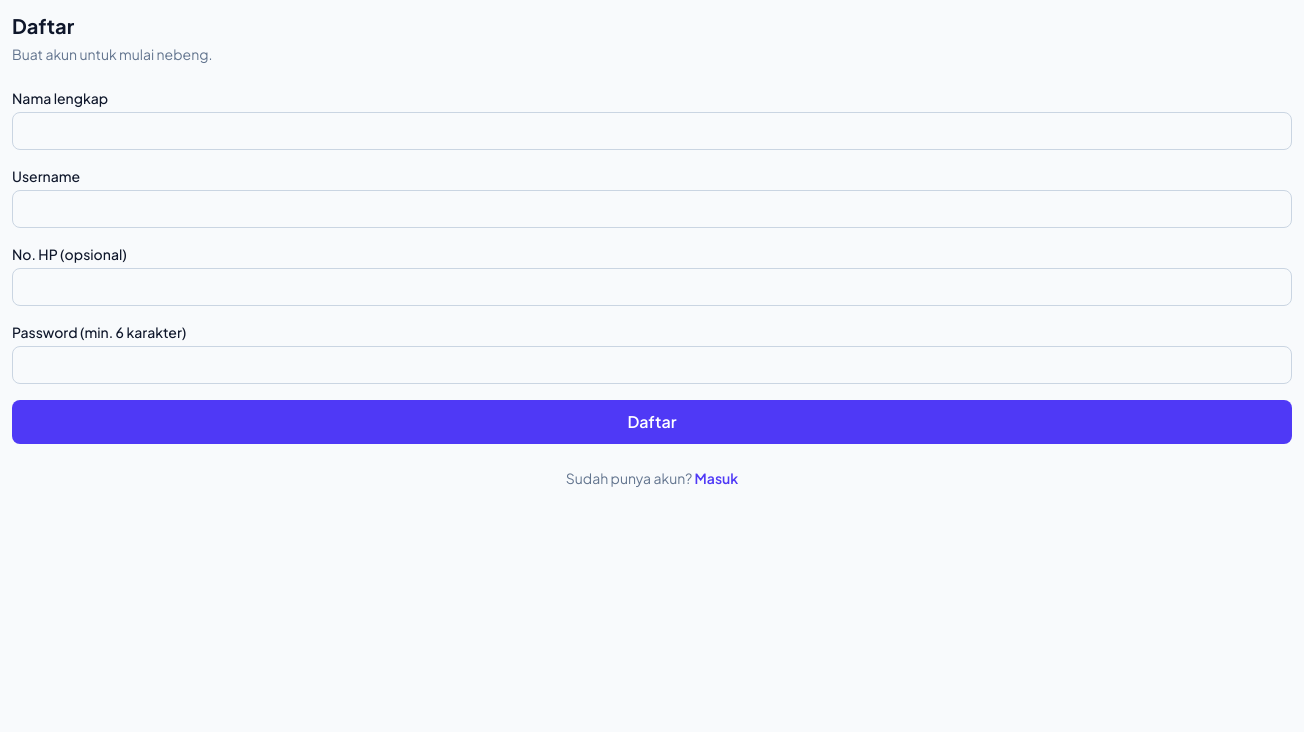
Test: RegisterPage › daftar gagal menampilkan pesan
Type "Leona" into the field with id "name" at (652, 131), box [12,112,1292,150]
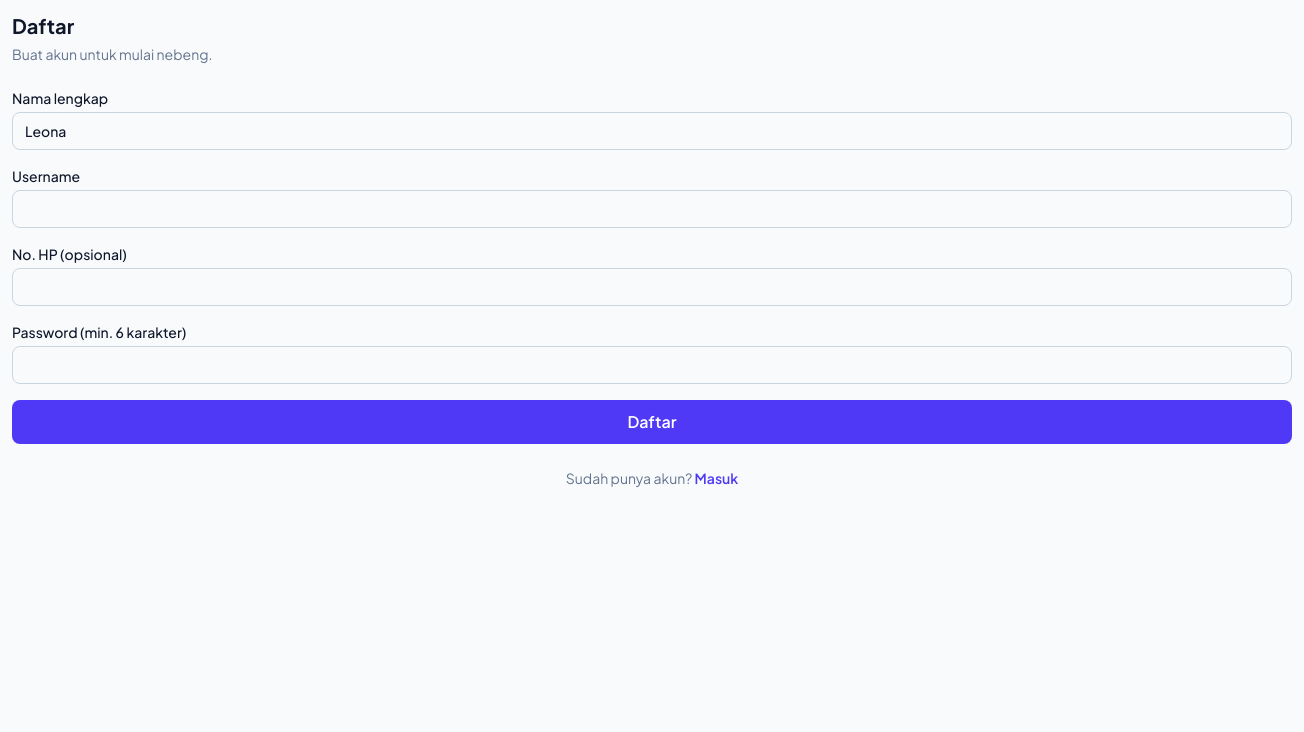
Type "leona" into the field with id "username" at (652, 209), box [12,190,1292,228]
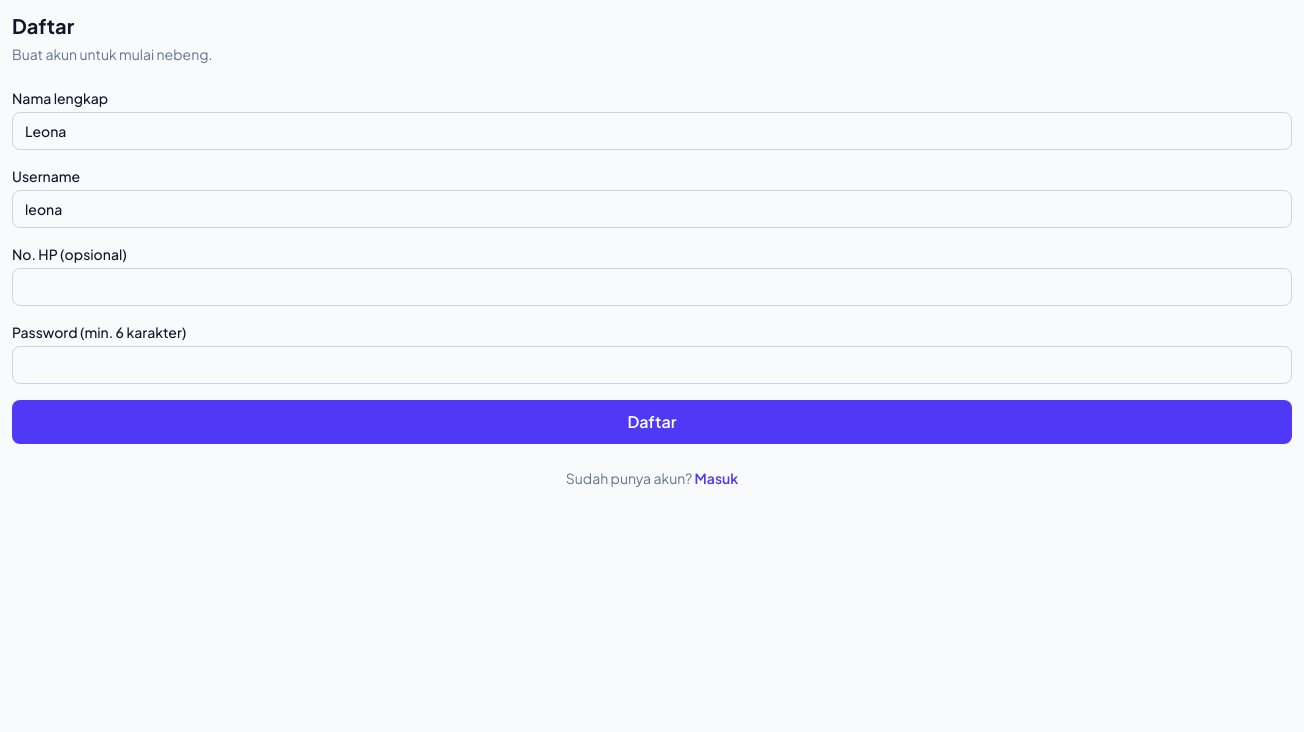
Type "0812" into the field labelled "No. HP (opsional)" at (652, 287), box [12,268,1292,306]
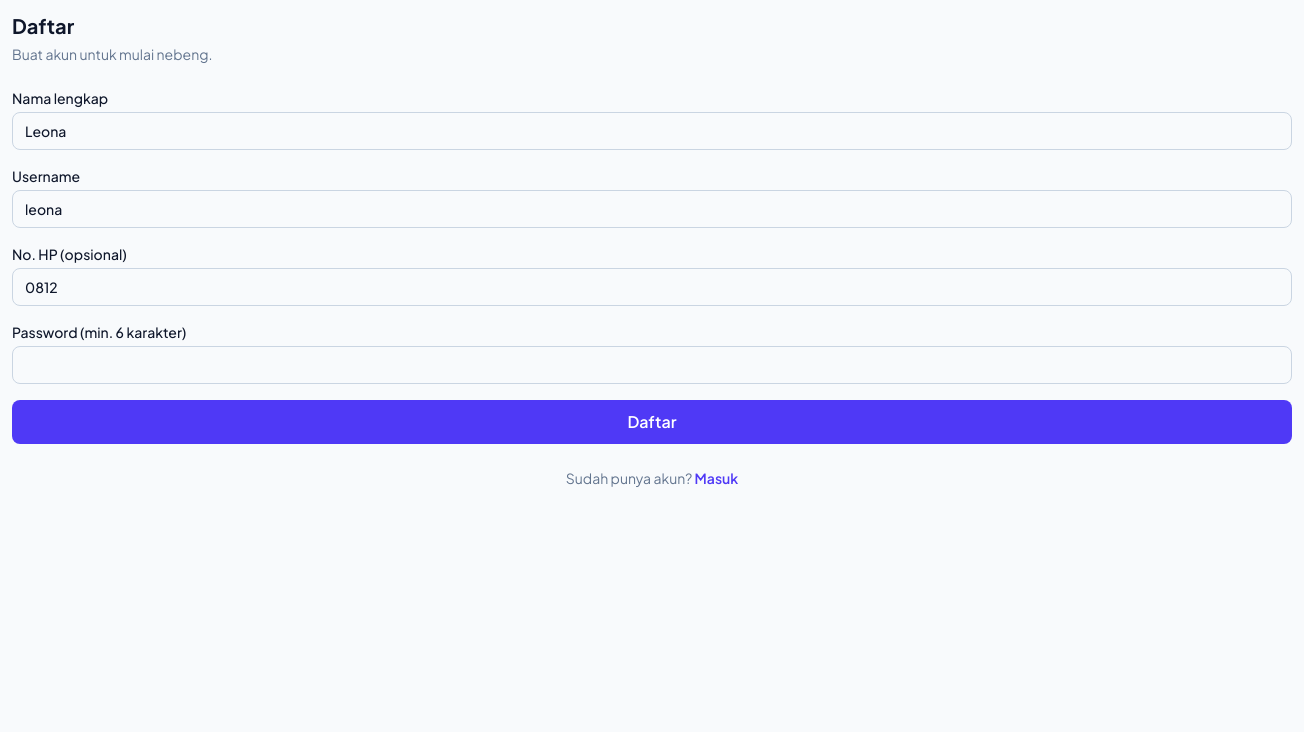
Type "secret1" into the password field labelled "Password (min. 6 karakter)" at (652, 365), box [12,346,1292,384]
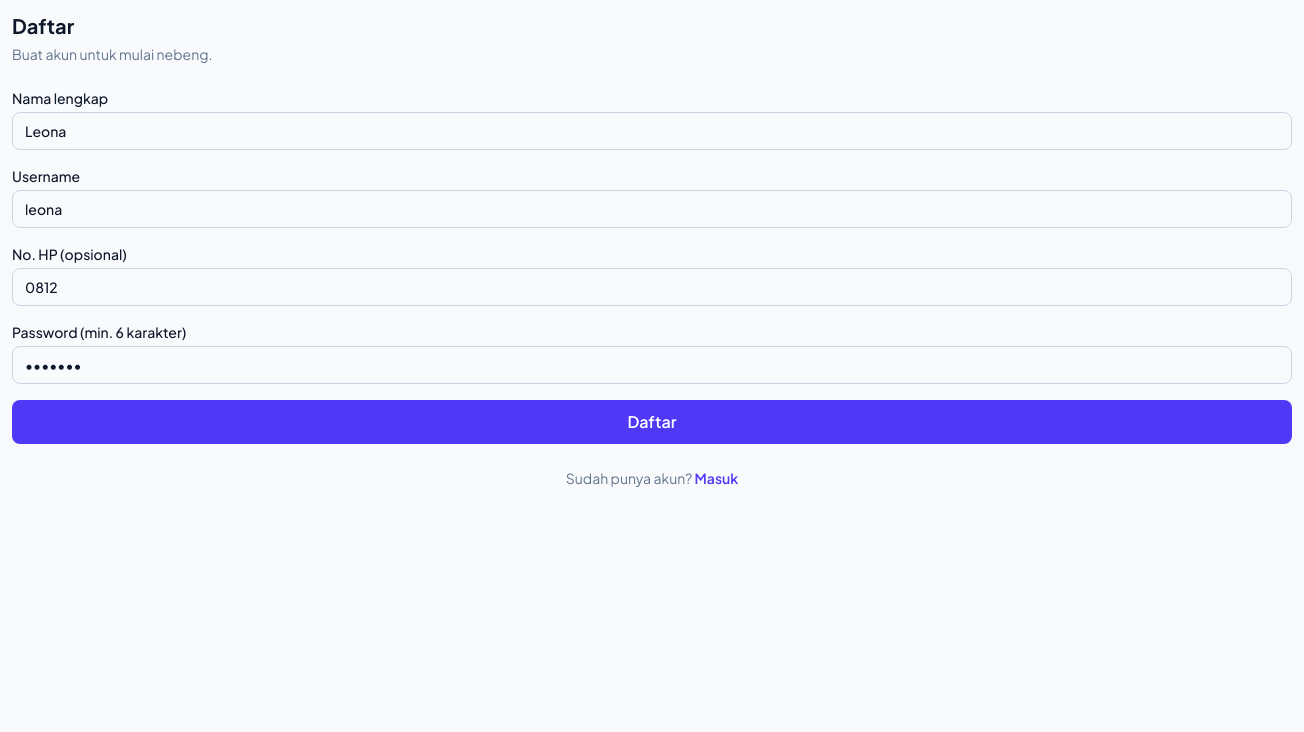
Submit the form, box [12,88,1292,444]
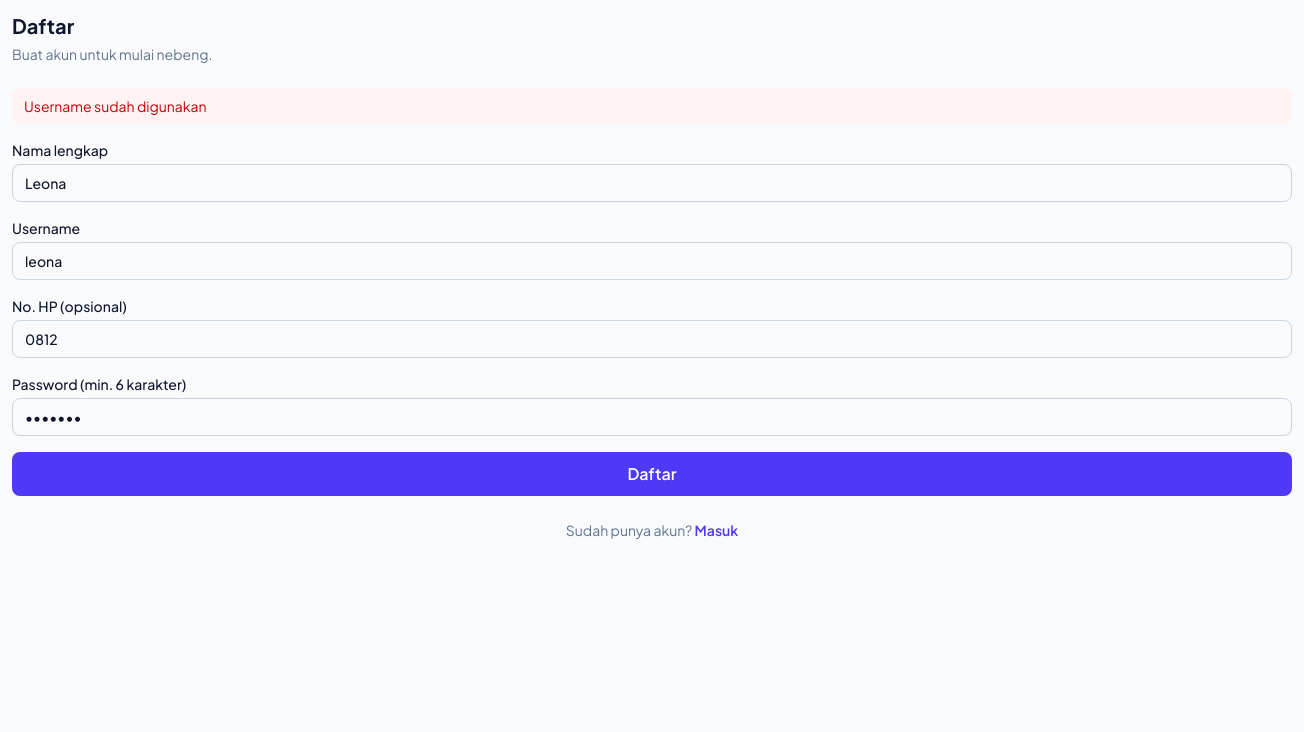
Expected: the message "Username sudah digunakan" is shown, [12,88,1292,124]
